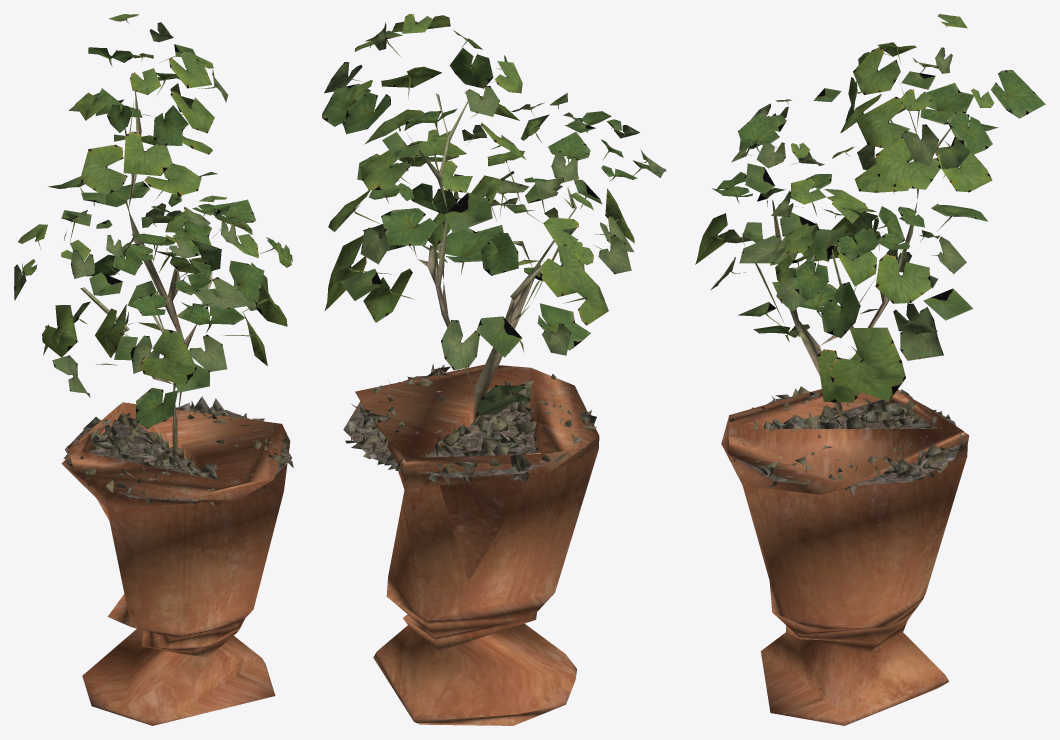
The model's file is potted_plant_01.glb.
3 renders of one model, left to right at view 1: azimuth 30°, elevation 25°; view 2: azimuth 150°, elevation 25°; view 3: azimuth 270°, elevation 25°, orthographic. The views are drawn at different scales.
Parts seen in each view (by area): view 1: potted_plant_01_pot, potted_plant_01_leaves, potted_plant_01_pebbles, potted_plant_01_stem; view 2: potted_plant_01_pot, potted_plant_01_leaves, potted_plant_01_pebbles, potted_plant_01_stem; view 3: potted_plant_01_pot, potted_plant_01_leaves, potted_plant_01_pebbles, potted_plant_01_stem.
Boxes of the visible parts, x1,y1,x2,y2 form: potted_plant_01_pot: (61, 402, 290, 725); potted_plant_01_leaves: (14, 14, 292, 427); potted_plant_01_pebbles: (63, 396, 293, 506); potted_plant_01_stem: (80, 91, 212, 447); potted_plant_01_pot: (355, 364, 599, 725); potted_plant_01_leaves: (322, 14, 666, 416); potted_plant_01_pebbles: (343, 363, 596, 485); potted_plant_01_stem: (409, 93, 576, 425); potted_plant_01_pot: (721, 389, 969, 725); potted_plant_01_leaves: (695, 14, 1045, 402); potted_plant_01_pebbles: (729, 386, 963, 494); potted_plant_01_stem: (755, 90, 950, 419).
Size of the model in its own units: 0.5775 by 1.33 by 0.6336.
2 materials, 2 textured.
